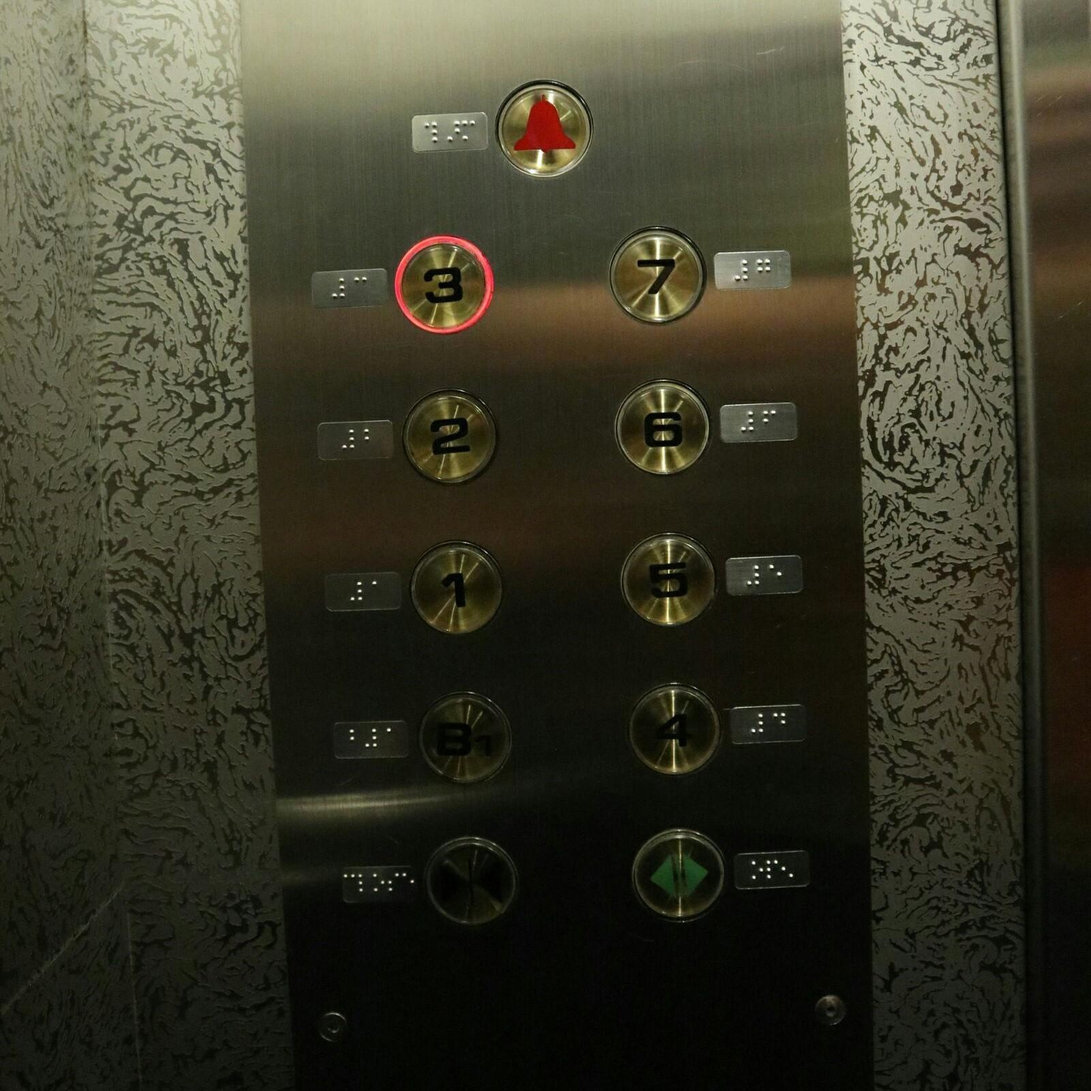1: (404, 535, 510, 640)
2: (396, 384, 502, 491)
3: (390, 230, 496, 336)
4: (624, 676, 723, 780)
5: (615, 527, 719, 631)
6: (610, 374, 712, 477)
7: (605, 222, 707, 328)
B1: (413, 685, 517, 790)
alarm: (491, 74, 597, 181)
close: (423, 832, 520, 929)
open: (628, 825, 728, 925)
